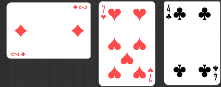2D: (10, 51, 27, 58)
4C: (165, 4, 173, 21)
7H: (101, 4, 108, 21)
